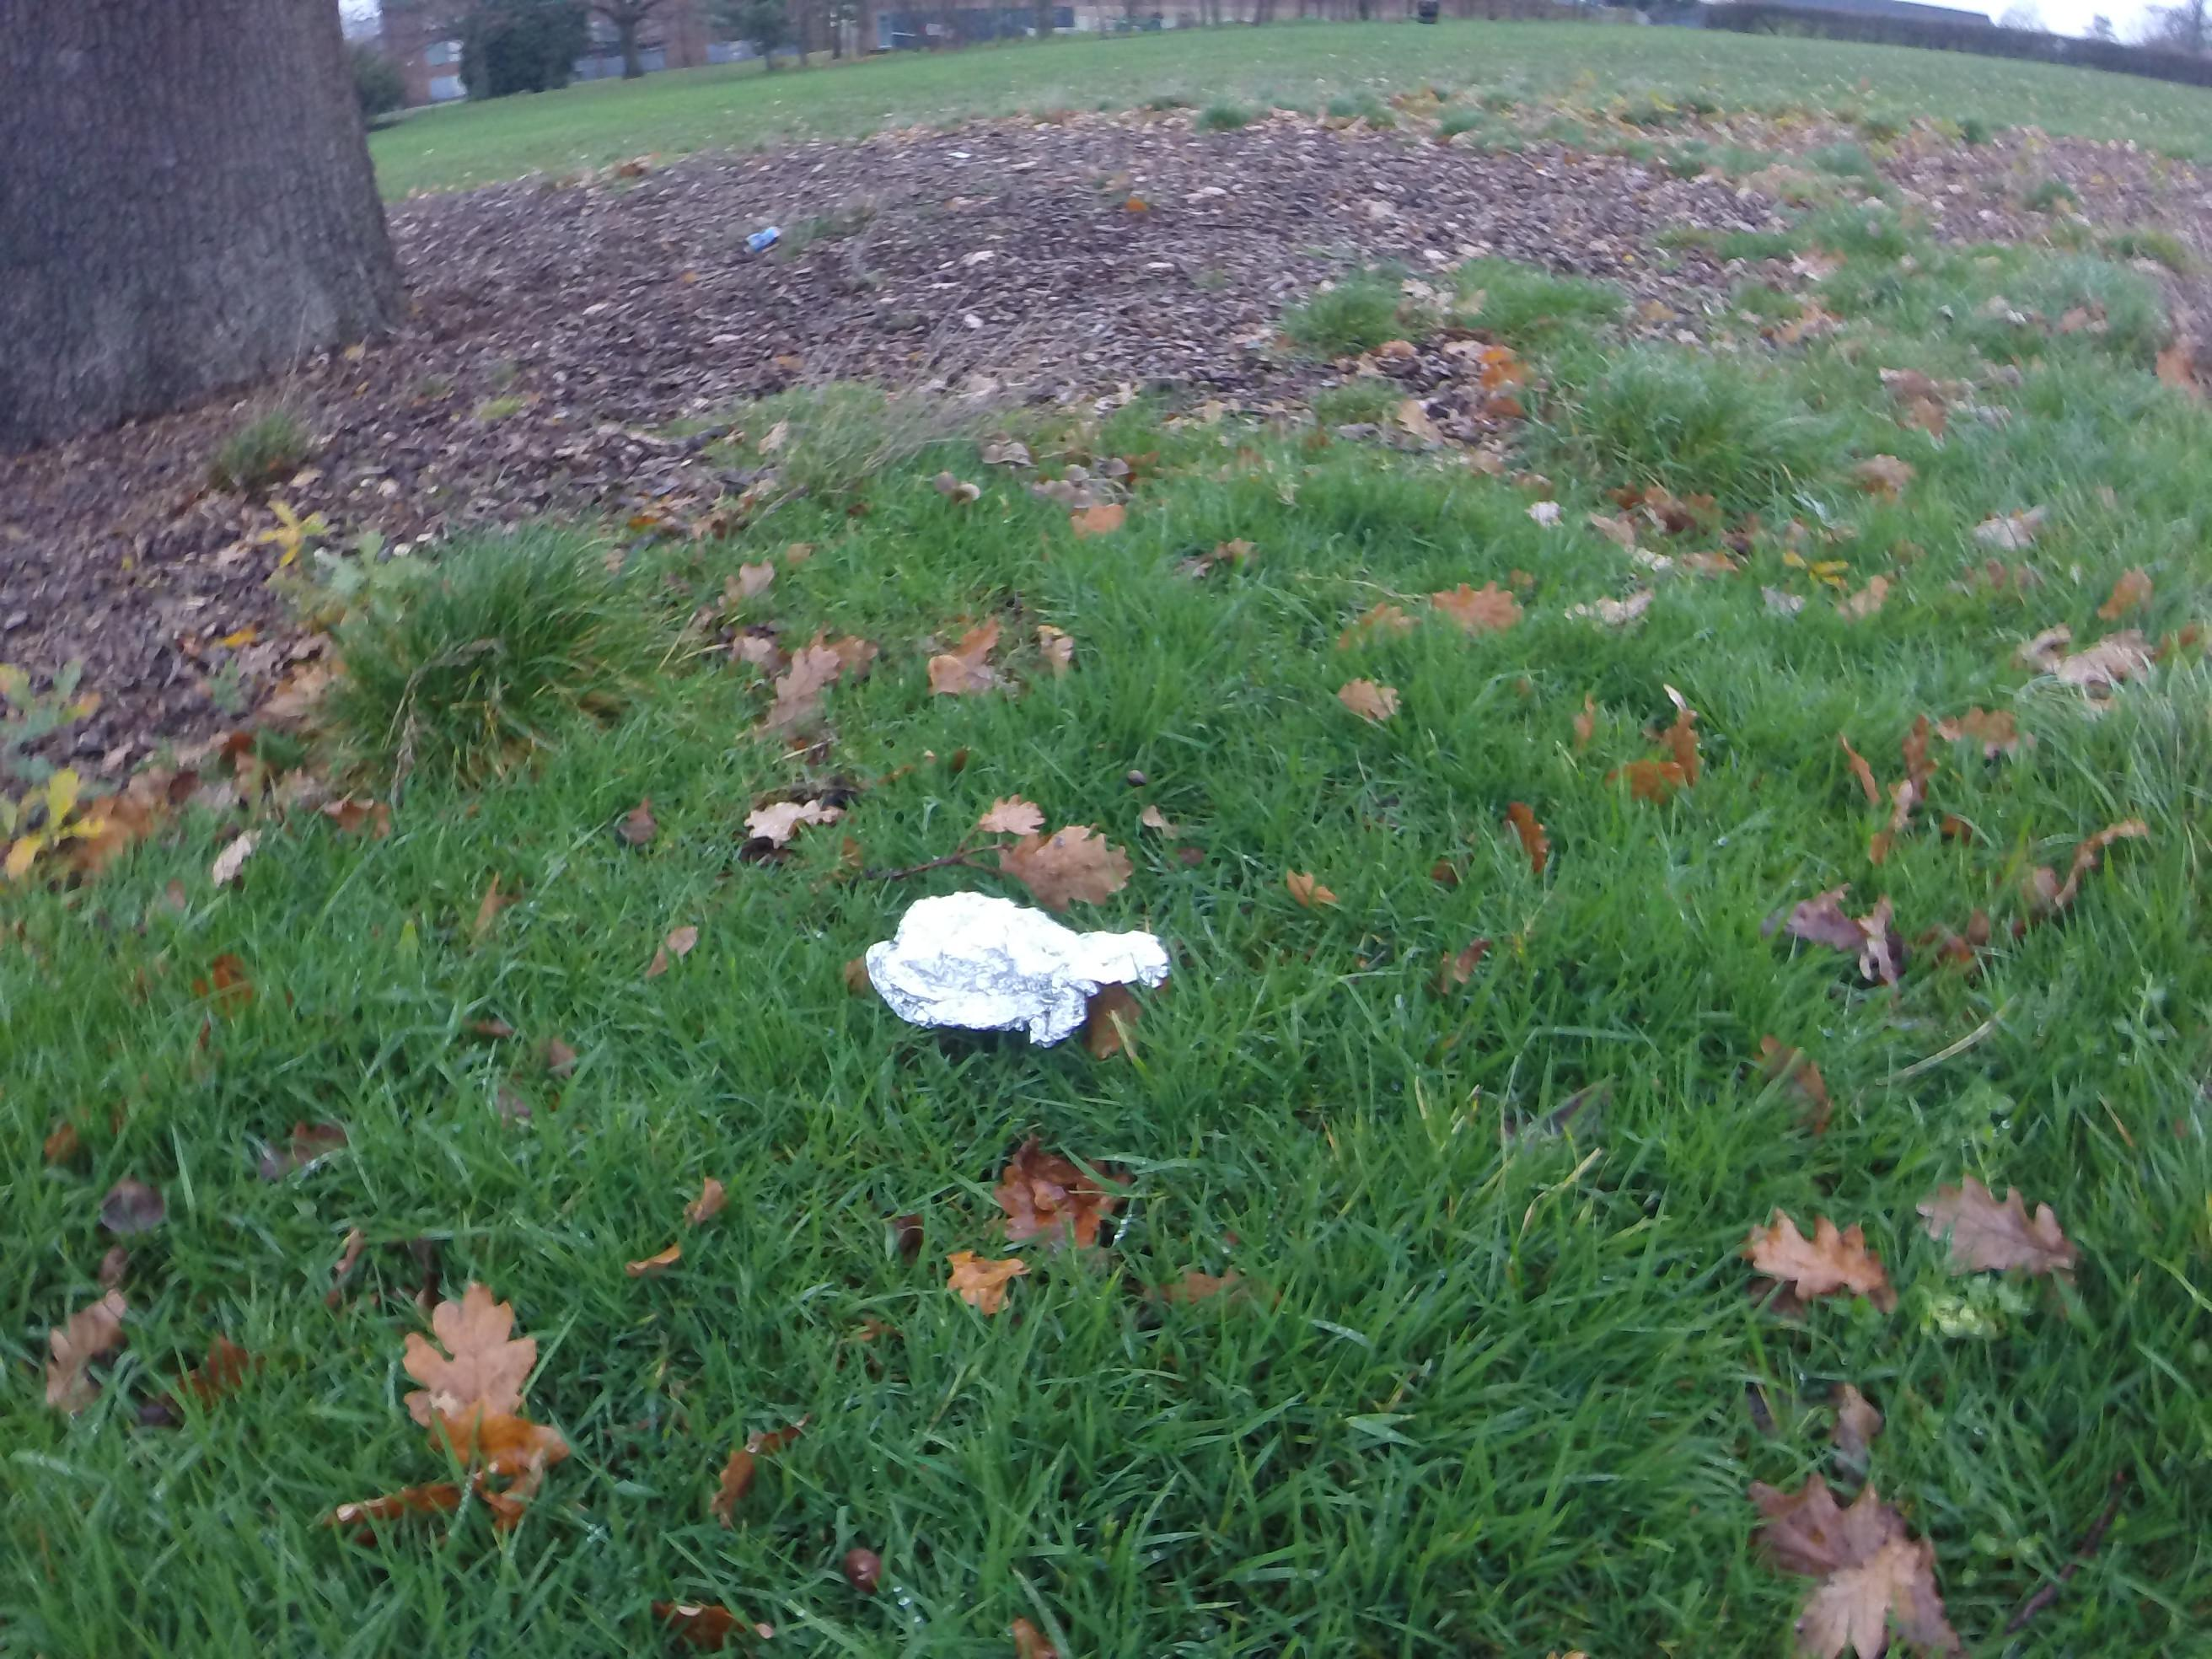Trash: (859, 901, 1170, 1037)
